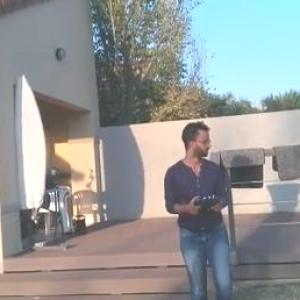follow: (160, 115, 238, 299)
